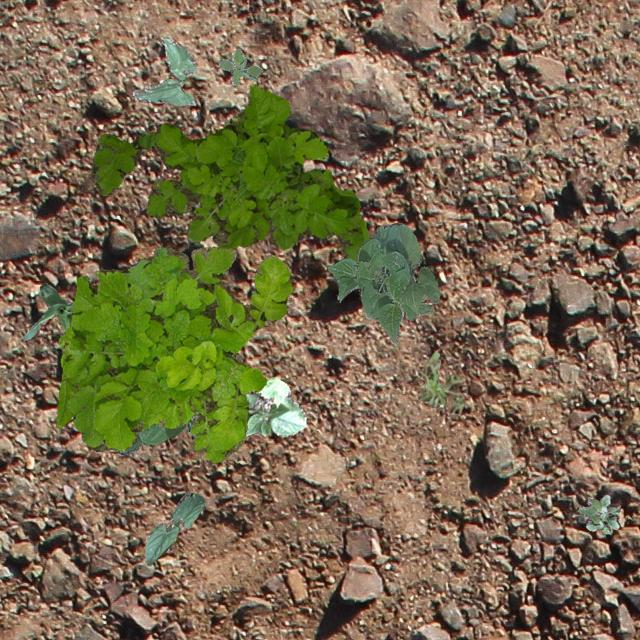crop: (326, 222, 438, 342), (116, 352, 234, 454), (130, 36, 194, 104), (144, 492, 204, 564), (244, 376, 306, 436), (22, 282, 74, 340)
weed: (55, 244, 294, 462), (90, 84, 370, 260), (416, 351, 464, 416), (576, 493, 620, 532), (218, 46, 262, 84), (58, 324, 72, 368)
